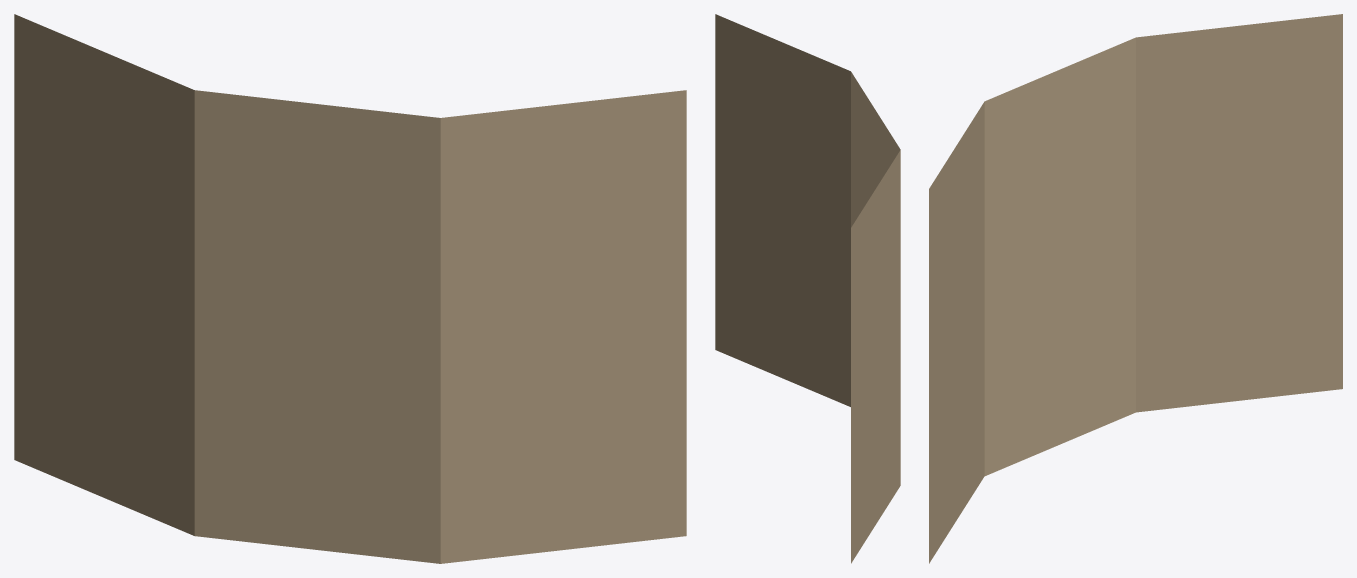
File: Escarpment_Terrain_Corner_Inner_1x1_Mid.fbx
3 renders of one model, left to right at view 1: azimuth 30°, elevation 25°; view 2: azimuth 150°, elevation 25°; view 3: azimuth 270°, elevation 25°, orthographic. The views are drawn at different scales.
Parts seen in each view (by area): view 1: object1; view 2: object1; view 3: object1.
Part boxes in pixels (box(x1,y1,x2,y2)): object1: box(14, 14, 686, 563); object1: box(715, 14, 900, 563); object1: box(929, 14, 1342, 563).
Size of the model in its own units: 1 by 1 by 1.
